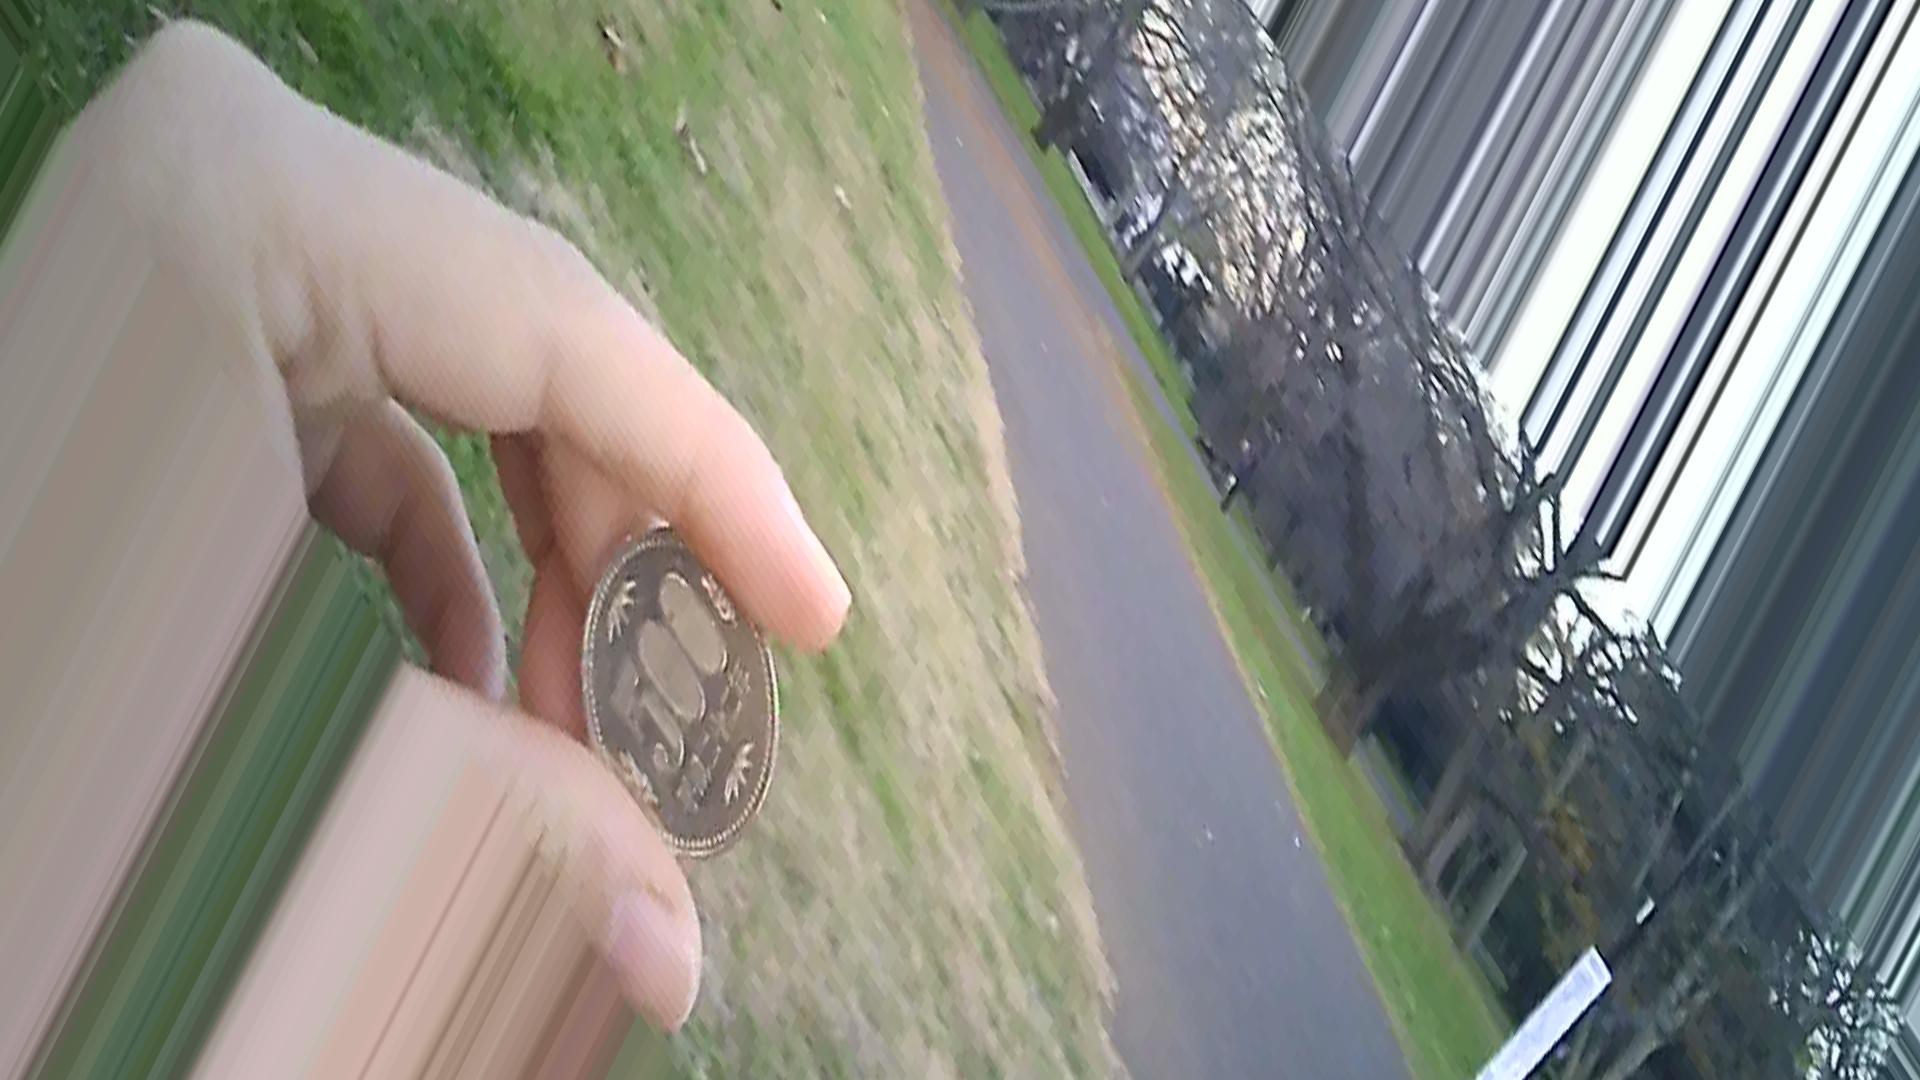500 Yen: (546, 521, 812, 852)
